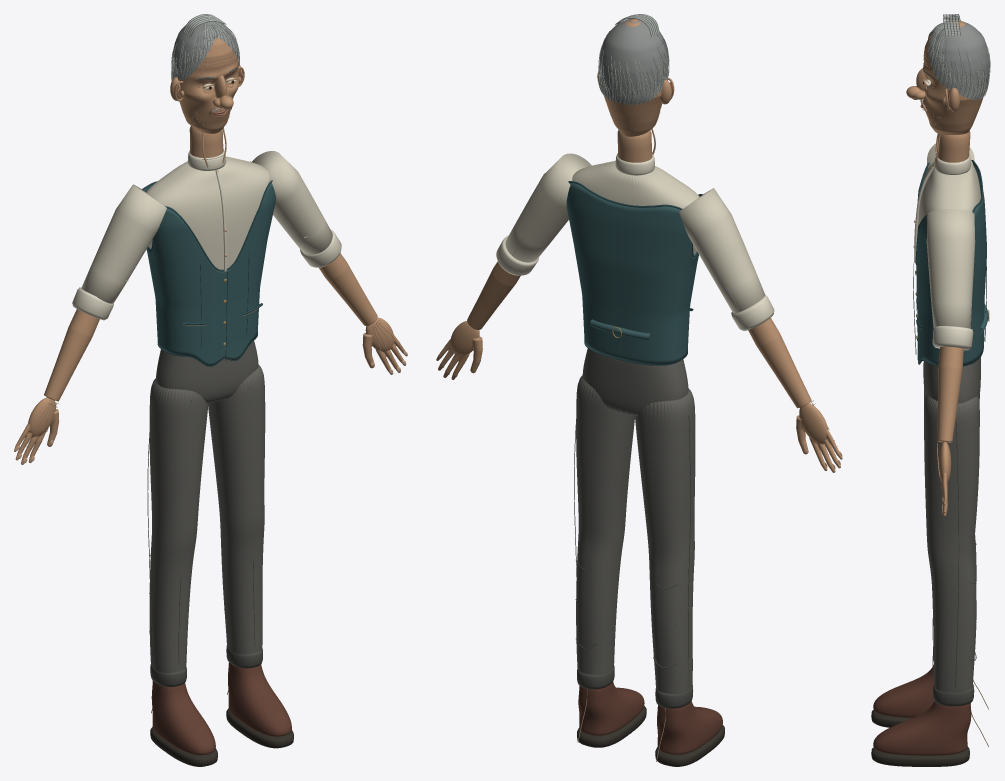
The model's file is entry-03-r02.glb.
3 views of the same model, side by side, from view 1: azimuth 30°, elevation 25°; view 2: azimuth 150°, elevation 25°; view 3: azimuth 270°, elevation 25° (orthographic). The views are drawn at different scales.
Parts seen in each view (by area): view 1: Trousers | right leg, Waistcoat | sculpted V and armholes, Trousers | left leg, Shirt | linen torso, Shirt | sleeve right, Shirt | sleeve left, Arm and careful hand | right, Head | Farid facial sculpt, Trousers | hips and crotch, Shoe | cordovan boot left, Shoe | cordovan boot right, Arm and careful hand | left (+7 smaller); view 2: Waistcoat | sculpted V and armholes, Trousers | right leg, Trousers | left leg, Shirt | sleeve right, Hair | receding swept silver cap, Trousers | hips and crotch, Shirt | sleeve left, Arm and careful hand | right, Shirt | linen torso, Arm and careful hand | left, Shoe | cordovan boot left, Shoe | cordovan boot right (+8 smaller); view 3: Trousers | left leg, Shirt | sleeve left, Waistcoat | sculpted V and armholes, Shoe | cordovan boot left, Hair | receding swept silver cap, Arm and careful hand | left, Head | Farid facial sculpt, Shirt | linen torso, Shoe | cordovan boot right, Hair | Hair | silver strands, Trousers | hips and crotch, Shoe | welted sole left (+9 smaller).
Boxes of the visible parts, x1=… form: Trousers | right leg: x1=149, y1=378, x2=208, y2=673; Waistcoat | sculpted V and armholes: x1=143, y1=183, x2=275, y2=365; Trousers | left leg: x1=208, y1=365, x2=265, y2=654; Shirt | linen torso: x1=146, y1=156, x2=269, y2=357; Shirt | sleeve right: x1=81, y1=184, x2=166, y2=303; Shirt | sleeve left: x1=252, y1=151, x2=332, y2=254; Arm and careful hand | right: x1=14, y1=309, x2=99, y2=464; Head | Farid facial sculpt: x1=179, y1=38, x2=239, y2=133; Trousers | hips and crotch: x1=156, y1=341, x2=258, y2=403; Shoe | cordovan boot left: x1=228, y1=662, x2=291, y2=736; Shoe | cordovan boot right: x1=151, y1=681, x2=215, y2=755; Arm and careful hand | left: x1=319, y1=253, x2=407, y2=374; Waistcoat | sculpted V and armholes: x1=566, y1=182, x2=700, y2=364; Trousers | right leg: x1=635, y1=388, x2=695, y2=694; Trousers | left leg: x1=576, y1=375, x2=634, y2=675; Shirt | sleeve right: x1=679, y1=188, x2=764, y2=313; Hair | receding swept silver cap: x1=599, y1=18, x2=668, y2=104; Trousers | hips and crotch: x1=582, y1=348, x2=688, y2=416; Shirt | sleeve left: x1=505, y1=153, x2=591, y2=262; Arm and careful hand | right: x1=748, y1=317, x2=842, y2=472; Shirt | linen torso: x1=572, y1=161, x2=699, y2=255; Arm and careful hand | left: x1=436, y1=261, x2=520, y2=379; Shoe | cordovan boot left: x1=578, y1=682, x2=644, y2=735; Shoe | cordovan boot right: x1=657, y1=701, x2=722, y2=754; Trousers | left leg: x1=924, y1=395, x2=979, y2=692; Shirt | sleeve left: x1=926, y1=209, x2=975, y2=328; Waistcoat | sculpted V and armholes: x1=916, y1=162, x2=986, y2=365; Shoe | cordovan boot left: x1=873, y1=701, x2=971, y2=755; Hair | receding swept silver cap: x1=928, y1=20, x2=989, y2=99; Arm and careful hand | left: x1=937, y1=346, x2=963, y2=516; Head | Farid facial sculpt: x1=906, y1=20, x2=982, y2=134; Shirt | linen torso: x1=918, y1=162, x2=981, y2=226; Shoe | cordovan boot right: x1=873, y1=665, x2=934, y2=717; Hair | Hair | silver strands: x1=920, y1=14, x2=990, y2=128; Trousers | hips and crotch: x1=923, y1=357, x2=980, y2=403; Shoe | welted sole left: x1=871, y1=746, x2=969, y2=766.
Size of the model in its own units: 1.08 by 1.86 by 0.2787.
